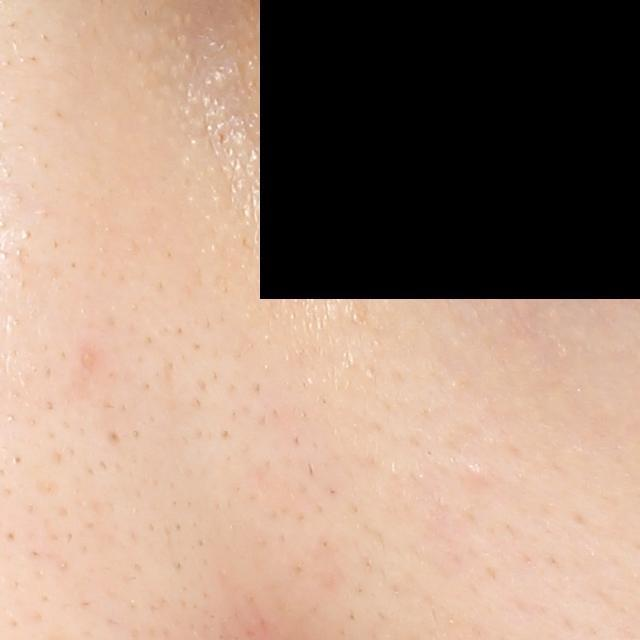comedo: (468, 460, 487, 480)
